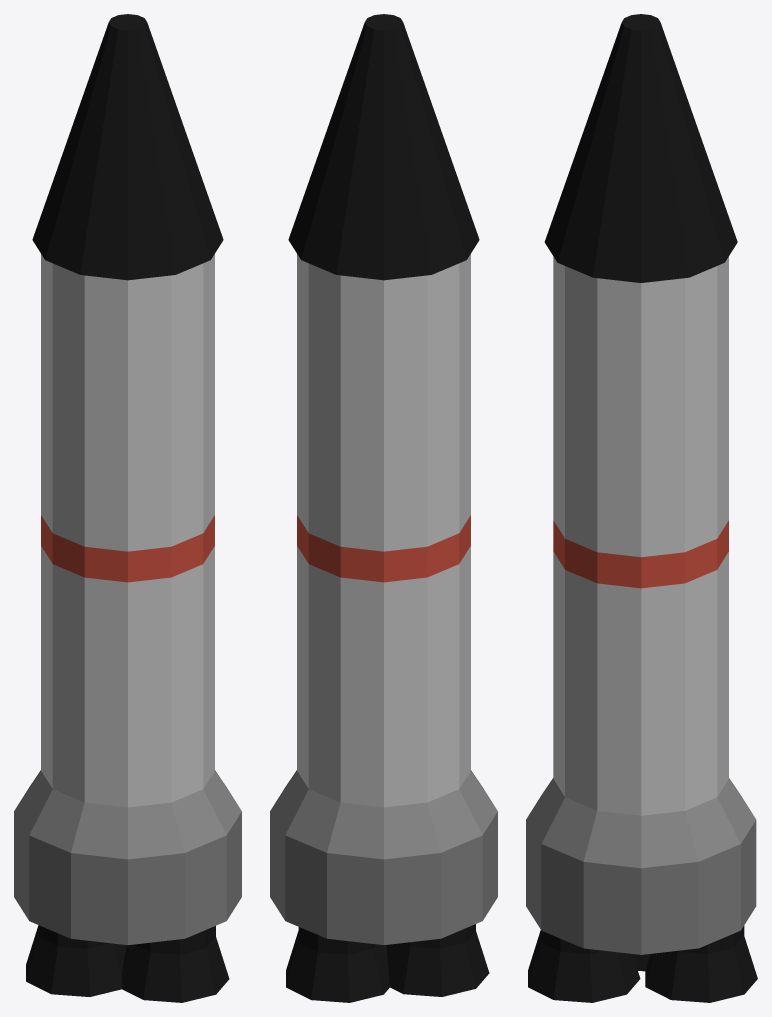
Rendered from Rocket.fbx.
3 renders of one model, left to right at view 1: azimuth 30°, elevation 25°; view 2: azimuth 150°, elevation 25°; view 3: azimuth 270°, elevation 25°, orthographic.
Parts seen in each view (by area): view 1: Rocket; view 2: Rocket; view 3: Rocket.
Part boxes in pixels (x1,y1,x2,y2): Rocket: [14, 14, 241, 1002]; Rocket: [270, 14, 497, 1002]; Rocket: [526, 14, 757, 1002].
Size of the model in its own units: 105 by 480 by 106.
